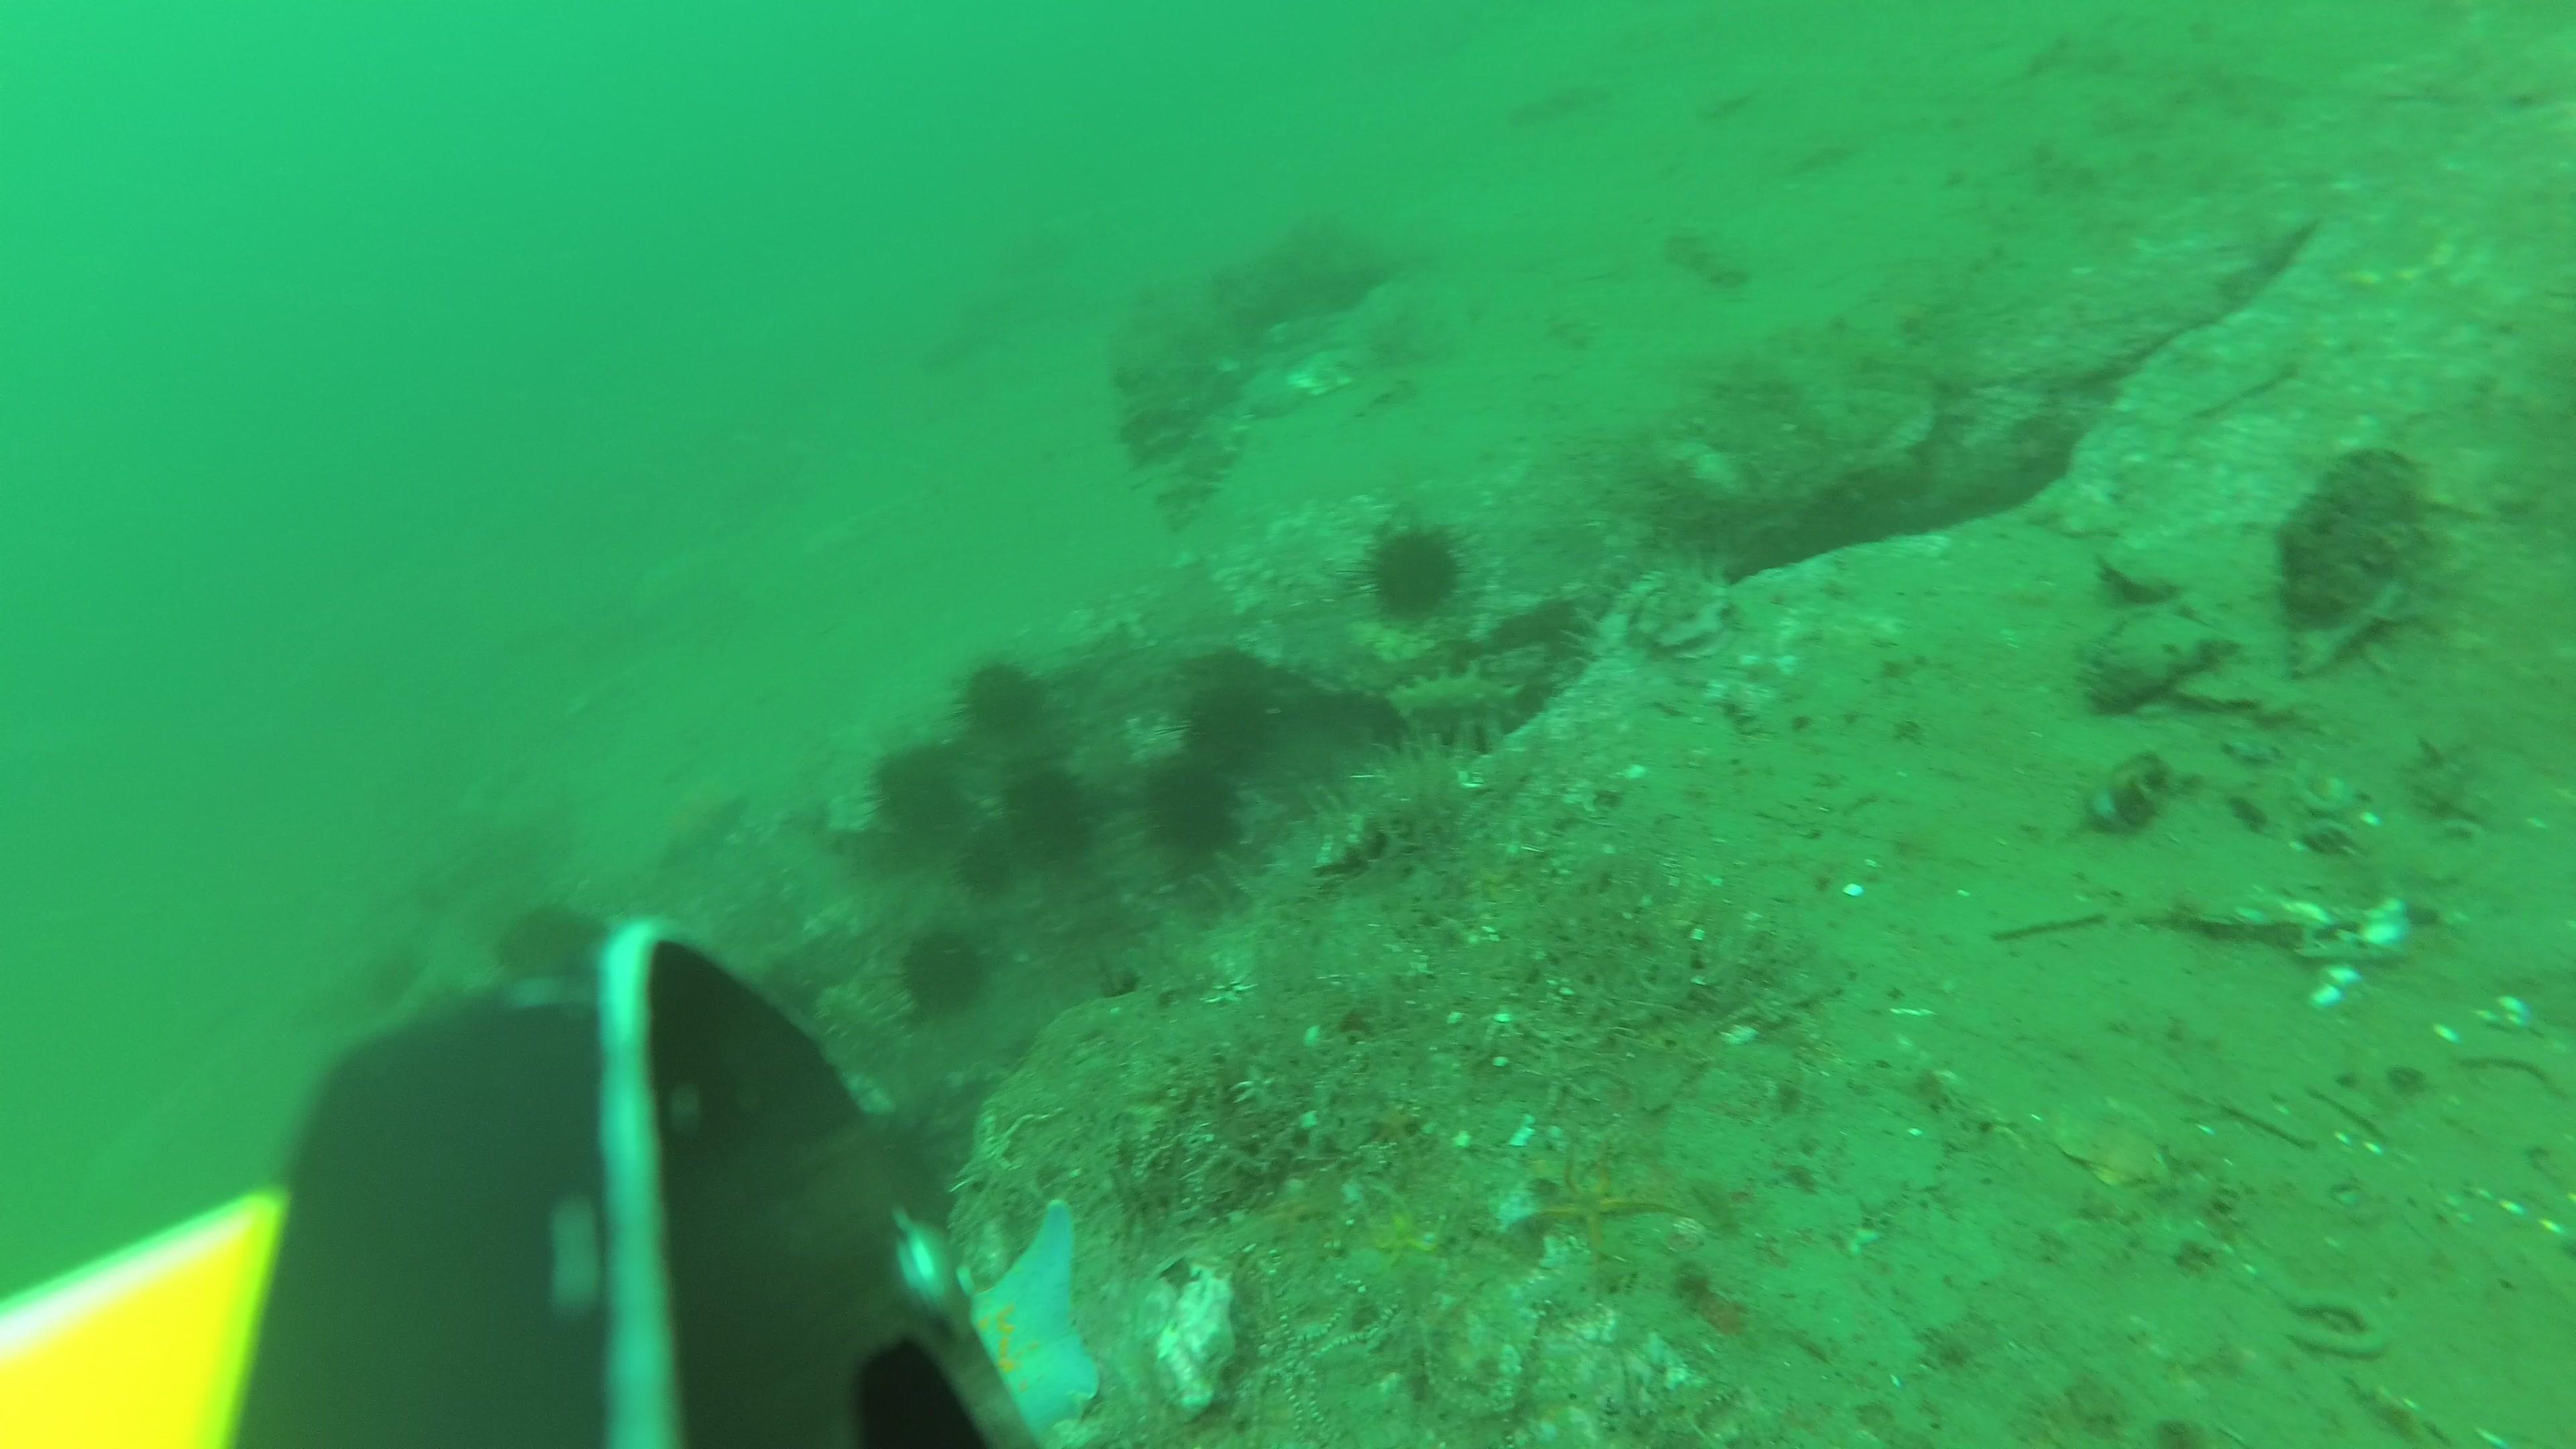echinus: (1369, 524, 1460, 628), (494, 906, 602, 982), (881, 743, 955, 849), (955, 662, 1042, 752), (1143, 761, 1224, 851), (1007, 771, 1086, 860), (906, 927, 982, 1012), (1189, 697, 1265, 777), (961, 824, 1010, 892)
holothurian: (1382, 663, 1525, 754), (1155, 405, 1247, 540), (1663, 226, 1741, 294), (1511, 81, 1608, 127), (1543, 311, 1599, 356)
scallop: (2056, 1095, 2169, 1189), (1295, 345, 1364, 400), (1697, 78, 1757, 122)
starfish: (966, 1200, 1102, 1449), (1548, 1145, 1677, 1269), (1366, 1198, 1449, 1269)
